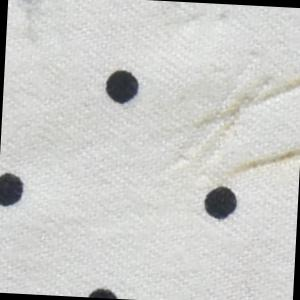Oil Stain: (185, 68, 300, 184)
Stain: (9, 1, 47, 45)
